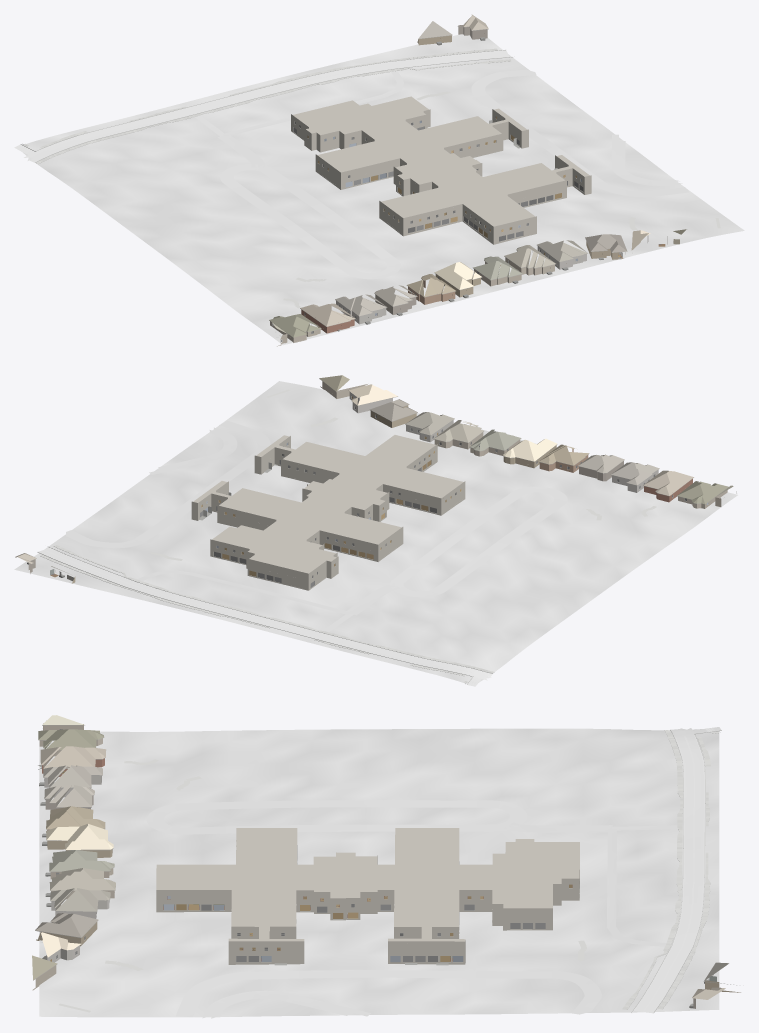
3 views of the same model, one above another, from view 1: azimuth 30°, elevation 25°; view 2: azimuth 150°, elevation 25°; view 3: azimuth 270°, elevation 25° (orthographic). The views are drawn at different scales.
Visible parts, largest first — view 1: ground, roof_flat, wall_com, concrete, roof, asphalt, wall, walk, curb, detail, glass, wall_stone (+2 smaller); view 2: ground, roof_flat, wall_com, concrete, roof, asphalt, wall, walk, curb, detail, wall_stone, glass (+2 smaller); view 3: ground, roof_flat, concrete, roof, wall_com, asphalt, walk, wall, detail, glass_lit, glass, wall_stone (+2 smaller).
Part boxes in pixels (box(x1,y1,x2,y2)): ground: box(22, 34, 744, 345); roof_flat: box(293, 96, 589, 226); wall_com: box(291, 109, 591, 244); concrete: box(14, 69, 689, 279); roof: box(269, 14, 686, 337); asphalt: box(24, 50, 509, 162); wall: box(277, 25, 623, 346); walk: box(24, 48, 720, 308); curb: box(20, 49, 514, 163); detail: box(269, 25, 673, 342); glass: box(280, 122, 583, 342); wall_stone: box(336, 235, 667, 324); ground: box(14, 381, 737, 683); roof_flat: box(193, 435, 463, 573); wall_com: box(191, 436, 465, 590); concrete: box(66, 420, 567, 686); roof: box(15, 375, 733, 573); asphalt: box(38, 548, 492, 680); wall: box(28, 381, 721, 583); walk: box(40, 389, 656, 683); curb: box(37, 546, 492, 684); detail: box(27, 378, 736, 588); wall_stone: box(349, 392, 658, 492); glass: box(200, 407, 686, 587); ground: box(39, 728, 719, 1017); roof_flat: box(156, 828, 579, 941); concrete: box(146, 727, 721, 1018); roof: box(32, 715, 728, 999); wall_com: box(156, 845, 579, 964); asphalt: box(633, 728, 704, 1013); walk: box(59, 730, 719, 1012); wall: box(32, 723, 740, 1008); detail: box(33, 725, 736, 1008); glass_lit: box(50, 771, 572, 961); glass: box(41, 729, 545, 961); wall_stone: box(42, 775, 109, 962).
Bounding box in the file's own units: 256 × 12.69 × 269.
